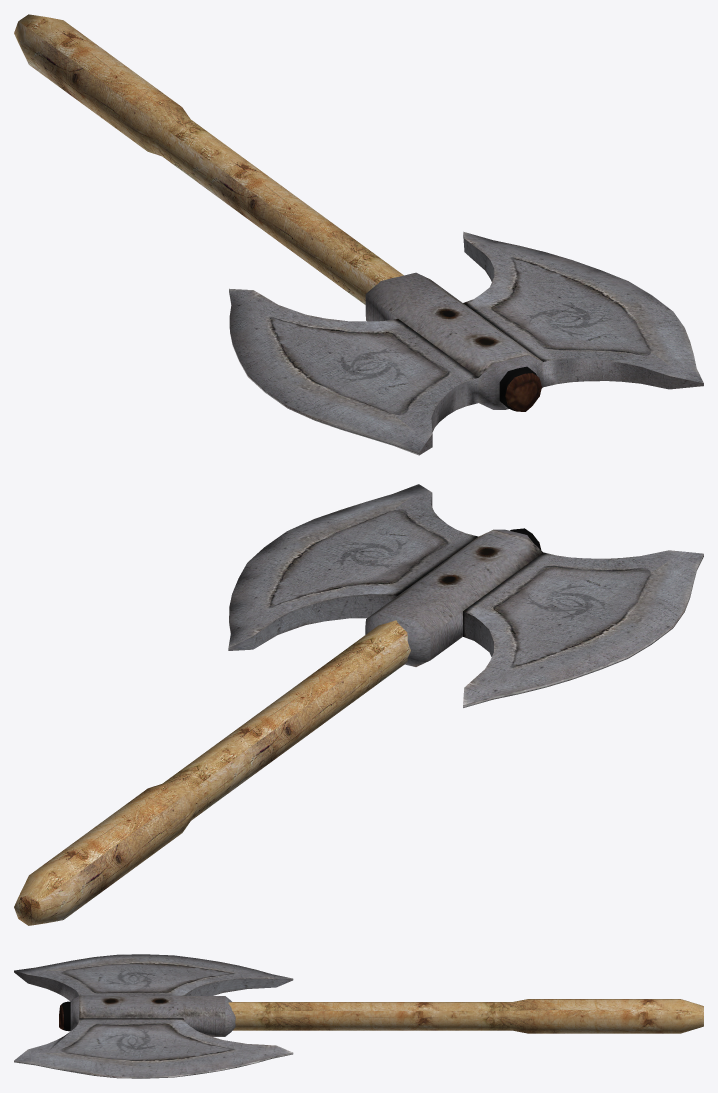
File: 2h_axe.obj
The picture shows the model from 3 angles, top to bottom: view 1: azimuth 30°, elevation 25°; view 2: azimuth 150°, elevation 25°; view 3: azimuth 270°, elevation 25°; orthographic projection. The views are drawn at different scales.
Visible parts, largest first — view 1: object; view 2: object; view 3: object.
Boxes of the visible parts, x1,y1,x2,y2 form: object: [14, 14, 703, 455]; object: [14, 484, 703, 925]; object: [14, 954, 703, 1078].
Size of the model in its own units: 103 by 13.01 by 246.
